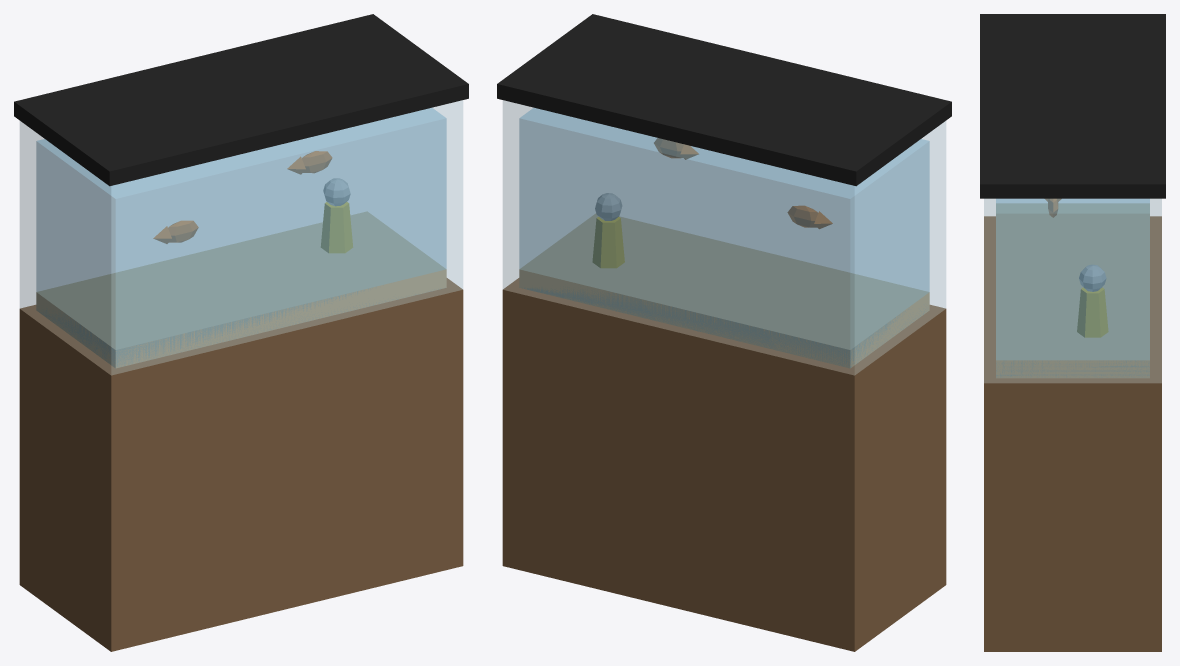
The model's file is fish_tank.glb.
3 renders of one model, left to right at view 1: azimuth 30°, elevation 25°; view 2: azimuth 150°, elevation 25°; view 3: azimuth 270°, elevation 25°, orthographic. The views are drawn at different scales.
Visible parts, largest first — view 1: cabinet_cabinet_wood, glass_dental_glass, water_tank_water, lid_lid_black, gravel_gravel, diver_diver_yellow; view 2: cabinet_cabinet_wood, glass_dental_glass, water_tank_water, lid_lid_black, gravel_gravel, diver_diver_yellow; view 3: cabinet_cabinet_wood, lid_lid_black, glass_dental_glass, gravel_gravel, water_tank_water, diver_diver_yellow, diver_dental_chrome.
Part boxes in pixels (x1,y1,x2,y2): cabinet_cabinet_wood: [19, 278, 463, 651]; glass_dental_glass: [20, 100, 462, 375]; water_tank_water: [36, 108, 446, 366]; lid_lid_black: [14, 14, 468, 186]; gravel_gravel: [36, 211, 446, 368]; diver_diver_yellow: [321, 202, 352, 252]; cabinet_cabinet_wood: [502, 278, 946, 651]; glass_dental_glass: [503, 100, 945, 375]; water_tank_water: [519, 108, 929, 367]; lid_lid_black: [497, 14, 951, 186]; gravel_gravel: [519, 214, 929, 368]; diver_diver_yellow: [592, 217, 624, 267]; cabinet_cabinet_wood: [984, 216, 1161, 651]; lid_lid_black: [980, 14, 1165, 198]; glass_dental_glass: [984, 199, 1161, 382]; gravel_gravel: [996, 203, 1149, 378]; water_tank_water: [996, 199, 1149, 375]; diver_diver_yellow: [1077, 287, 1108, 337]; diver_dental_chrome: [1079, 265, 1106, 291].
Bounding box in the file's own units: 1.02 × 1.31 × 0.47.
